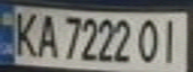2: (112, 16, 136, 64), (78, 14, 100, 62), (97, 15, 118, 63)
7: (57, 12, 81, 61)
A: (33, 10, 60, 58)
I: (157, 15, 184, 64)
K: (9, 8, 42, 57)
O: (133, 16, 163, 64)
